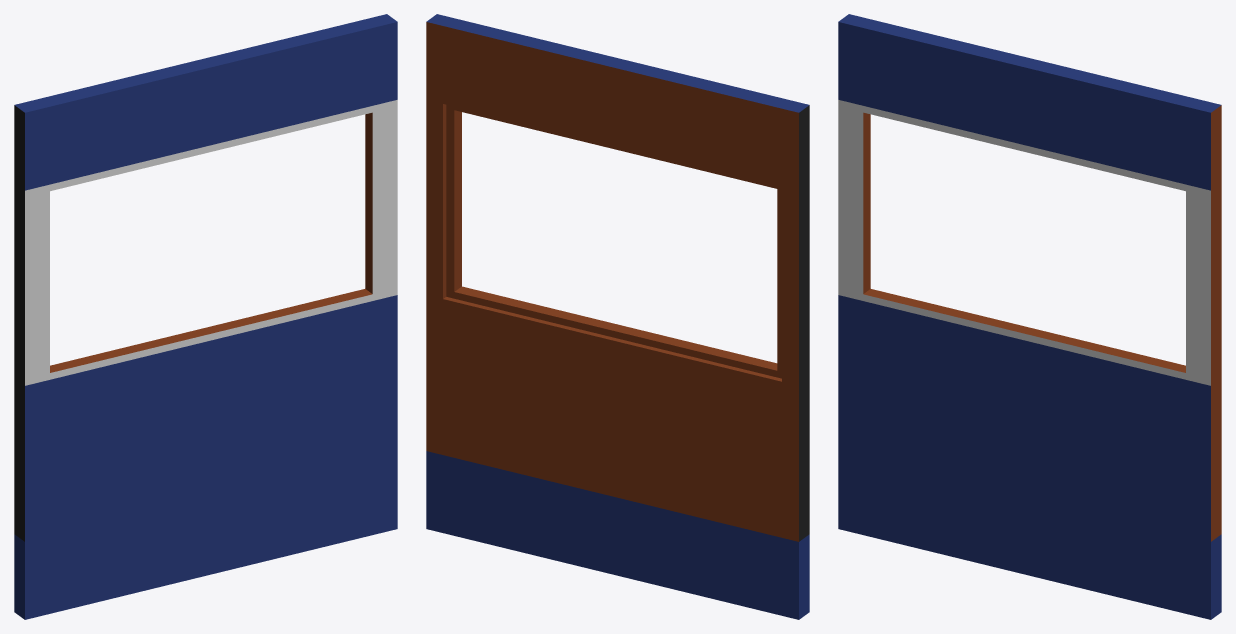
Rendered from cp_wall_tile_220x200_window_hole.fbx.
3 renders of one model, left to right at view 1: azimuth 30°, elevation 25°; view 2: azimuth 150°, elevation 25°; view 3: azimuth 330°, elevation 25°, orthographic.
Parts seen in each view (by area): view 1: wall_tile_220x200_window_hole; view 2: wall_tile_220x200_window_hole; view 3: wall_tile_220x200_window_hole.
Part boxes in pixels (<box>): wall_tile_220x200_window_hole: <box>14,14,397,619</box>; wall_tile_220x200_window_hole: <box>426,14,809,619</box>; wall_tile_220x200_window_hole: <box>838,14,1221,619</box>.
Bounding box in the file's own units: 200 × 260 × 10.
Materials: 1 (1 with a texture image).
